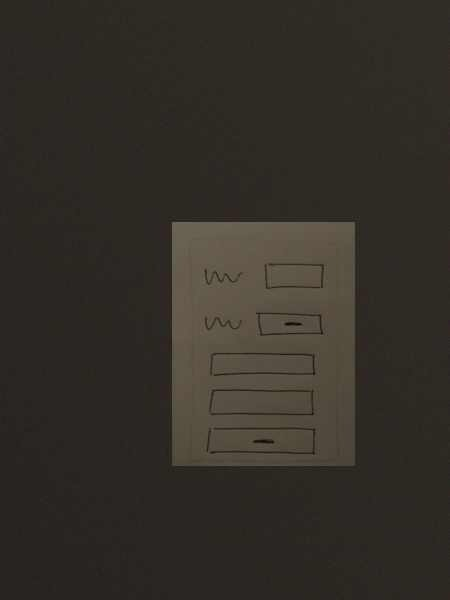button: (205, 426, 319, 457), (254, 308, 325, 339)
text: (202, 262, 244, 290), (203, 311, 245, 336)
text_input: (206, 348, 323, 381), (206, 386, 316, 419), (262, 260, 326, 295)
